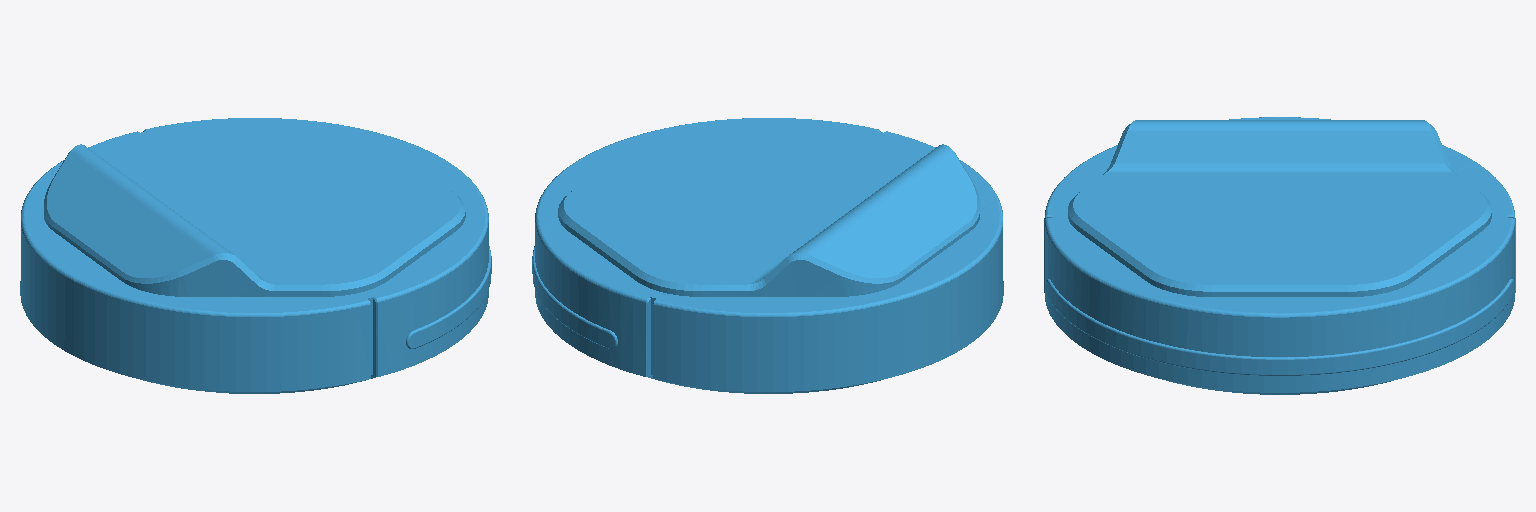
robot.urdf — kobuki_standalone:
<?xml version="1.0" encoding="utf-8"?>
<!-- =================================================================================== -->
<!-- |    This document was autogenerated by xacro from kobuki_standalone.urdf.xacro   | -->
<!-- |    EDITING THIS FILE BY HAND IS NOT RECOMMENDED                                 | -->
<!-- =================================================================================== -->
<robot name="kobuki_standalone" xmlns:controller="http://playerstage.sourceforge.net/gazebo/xmlschema/#controller" xmlns:interface="http://playerstage.sourceforge.net/gazebo/xmlschema/#interface" xmlns:sensor="http://playerstage.sourceforge.net/gazebo/xmlschema/#sensor" xmlns:xacro="http://ros.org/wiki/xacro">
  <!-- <xacro:include filename="$(find kobuki_description)/urdf/kobuki_gazebo.urdf.xacro"/> -->
  <link name="base_footprint"/>

  <joint name="base_joint" type="fixed">
    <origin rpy="0 0 0" xyz="0 0 0.06"/>
    <parent link="base_footprint"/>
    <child link="base_link"/>
  </joint>


  <link name="base_link">
    <visual>
      <geometry>
        <!-- new mesh -->
        <mesh filename="package://tbot_sim/models/kobuki_model/meshes/main_body.dae"/>
      </geometry>
      <origin rpy="0 0 0" xyz="0.01 0 0.0"/>
    </visual>
    <collision name="base">
      <geometry>
        <cylinder length="0.10938" radius="0.178"/>
      </geometry>
      <origin rpy="0 0 0" xyz="0.0 0 0.05949"/>
    </collision>
    <inertial>
      <!-- COM experimentally determined -->
      <origin xyz="0.01 0 0"/>
      <mass value="2.4"/>
      <!-- 2.4/2.6 kg for small/big battery pack -->
      <!-- Kobuki's inertia tensor is approximated by a cylinder with homogeneous mass distribution
             More details: http://en.wikipedia.org/wiki/List_of_moment_of_inertia_tensors
             m = 2.4 kg; h = 0.09 m; r = 0.175 m
             ixx = 1/12 * m * (3 * r^2 + h^2)
             iyy = 1/12 * m * (3 * r^2 + h^2)
             izz = 1/2 * m * r^2
          -->
      <inertia ixx="0.019995" ixy="0.0" ixz="0.0" iyy="0.019995" iyz="0.0" izz="0.03675"/>
    </inertial>
  </link>
  <joint name="wheel_left_joint" type="continuous">
    <parent link="base_link"/>
    <child link="wheel_left_link"/>
    <origin rpy="-1.57079632679 0 0" xyz="0.00 0.115 -0.0250"/>
    <axis xyz="0 0 1"/>
  </joint>
  <link name="wheel_left_link">
    <visual>
      <geometry>
        <mesh filename="package://tbot_sim/models/kobuki_model/meshes/wheel.dae"/>
      </geometry>
      <origin rpy="0 0 0" xyz="0 0 0"/>
    </visual>
    <collision>
      <geometry>
        <cylinder length="0.0206" radius="0.0352"/>
      </geometry>
      <origin rpy="0 0 0" xyz="0 0 0"/>
    </collision>
    <inertial>
      <mass value="0.01"/>
      <origin xyz="0 0 0"/>
      <inertia ixx="0.001" ixy="0.0" ixz="0.0" iyy="0.001" iyz="0.0" izz="0.001"/>
    </inertial>
  </link>
  <joint name="wheel_right_joint" type="continuous">
    <parent link="base_link"/>
    <child link="wheel_right_link"/>
    <origin rpy="-1.57079632679 0 0" xyz="0.00 -0.115 -0.0250"/>
    <axis xyz="0 0 1"/>
  </joint>
  <link name="wheel_right_link">
    <visual>
      <geometry>
        <mesh filename="package://tbot_sim/models/kobuki_model/meshes/wheel.dae"/>
      </geometry>
      <origin rpy="0 0 0" xyz="0 0 0"/>
    </visual>
    <collision>
      <geometry>
        <cylinder length="0.0206" radius="0.0350"/>
      </geometry>
      <origin rpy="0 0 0" xyz="0 0 0"/>
    </collision>
    <inertial>
      <mass value="0.01"/>
      <origin xyz="0 0 0"/>
      <inertia ixx="0.001" ixy="0.0" ixz="0.0" iyy="0.001" iyz="0.0" izz="0.001"/>
    </inertial>
  </link>
  <joint name="caster_front_joint" type="fixed">
    <parent link="base_link"/>
    <child link="caster_front_link"/>
    <origin rpy="-1.57079632679 0 0" xyz="0.115 0.0 0.007"/>
  </joint>
  <link name="caster_front_link">
    <collision>
      <geometry>
        <cylinder length="0.0176" radius="0.017"/>
      </geometry>
      <origin rpy="0 0 0" xyz="0 0 0"/>
    </collision>
    <inertial>
      <mass value="0.01"/>
      <origin xyz="0 0 0"/>
      <inertia ixx="0.001" ixy="0.0" ixz="0.0" iyy="0.001" iyz="0.0" izz="0.001"/>
    </inertial>
  </link>
  <joint name="caster_back_joint" type="fixed">
    <parent link="base_link"/>
    <child link="caster_back_link"/>
    <origin rpy="-1.57079632679 0 0" xyz="-0.135 0.0 0.009"/>
  </joint>
  <link name="caster_back_link">
    <collision>
      <geometry>
        <cylinder length="0.0176" radius="0.017"/>
      </geometry>
      <origin rpy="0 0 0" xyz="0 0 0"/>
    </collision>
    <inertial>
      <mass value="0.01"/>
      <origin xyz="0 0 0"/>
      <inertia ixx="0.001" ixy="0.0" ixz="0.0" iyy="0.001" iyz="0.0" izz="0.001"/>
    </inertial>
  </link>
  <!-- Kobuki's sensors -->
  <joint name="gyro_joint" type="fixed">
    <axis xyz="0 1 0"/>
    <origin rpy="0 0 0" xyz="0.056 0.062 0.0202"/>
    <parent link="base_link"/>
    <child link="imu_link"/>
  </joint>

<!-- 
  Gazebo libgazebo_ros_imu plugin bug, the name of the gyro_link was changed to 
  imu_link. https://github.com/googlecartographer/cartographer_ros/issues/278#issuecomment-[number redacted] 

-->
  <link name="imu_link">
    <inertial>
      <mass value="0.001"/>
      <origin rpy="0 0 0" xyz="0 0 0"/>
      <inertia ixx="0.0001" ixy="0" ixz="0" iyy="0.000001" iyz="0" izz="0.0001"/>
    </inertial>
  </link>
  <joint name="cliff_sensor_left_joint" type="fixed">
    <origin rpy="0 1.57079632679 0" xyz="0.08734 0.13601 0.0214"/>
    <parent link="base_link"/>
    <child link="cliff_sensor_left_link"/>
  </joint>
  <link name="cliff_sensor_left_link">
    <inertial>
      <mass value="0.0001"/>
      <origin xyz="0 0 0"/>
      <inertia ixx="0.0001" ixy="0.0" ixz="0.0" iyy="0.0001" iyz="0.0" izz="0.0001"/>
    </inertial>
  </link>
  <joint name="cliff_sensor_right_joint" type="fixed">
    <origin rpy="0 1.57079632679 0" xyz="0.085 -0.13601 0.0214"/>
    <parent link="base_link"/>
    <child link="cliff_sensor_right_link"/>
  </joint>
  <link name="cliff_sensor_right_link">
    <inertial>
      <mass value="0.0001"/>
      <origin xyz="0 0 0"/>
      <inertia ixx="0.0001" ixy="0.0" ixz="0.0" iyy="0.0001" iyz="0.0" izz="0.0001"/>
    </inertial>
  </link>
  <joint name="cliff_sensor_front_joint" type="fixed">
    <origin rpy="0 1.57079632679 0" xyz="0.156 0.00 0.0214"/>
    <parent link="base_link"/>
    <child link="cliff_sensor_front_link"/>
  </joint>
  <link name="cliff_sensor_front_link">
    <inertial>
      <mass value="0.0001"/>
      <origin xyz="0 0 0"/>
      <inertia ixx="0.0001" ixy="0.0" ixz="0.0" iyy="0.0001" iyz="0.0" izz="0.0001"/>
    </inertial>
  </link>
  <!-- Kobuki Gazebo simulation details -->
  <!-- <kobuki_sim/> -->
  <!-- Laser Link -->
    <joint name="laser_joint" type="fixed">
        <parent link="base_link"/>
        <child link="laser_link"/>
        <origin rpy="0 0 0" xyz="0.115 0.00 0.07"/>
    </joint>

    <link name="laser_link">
      <visual>
        <geometry>
          <mesh filename="package://tbot_sim/models/kobuki_model/meshes/hokuyo.dae"/>
        </geometry>
        <origin rpy="0 0 0" xyz="0.01 0 0.0"/>
      </visual>
      <collision name="collision-laser">
        <geometry>
          <cylinder length="0.10938" radius="0.178"/>
        </geometry>
        <origin rpy="0 0 0" xyz="0.0 0 0.05949"/>
      </collision>
      <inertial>
        <mass value="0.1"/>
        <origin xyz="0 0 0"/>
        <inertia ixx="0.0001" ixy="0.0" ixz="0.0" iyy="0.0001" iyz="0.0" izz="0.0001"/>
      </inertial>
    </link>

</robot>

--- Render facts (derived) ---
Views: 3 orthographic renders of the robot side by side, from view 1: azimuth 30°, elevation 25°; view 2: azimuth 150°, elevation 25°; view 3: azimuth 270°, elevation 25°.
Robot: kobuki_standalone — 11 links, 10 joints (2 continuous, 8 fixed); root link base_footprint; default pose: all joints at 0.
Visible links, largest first — view 1: base_link; view 2: base_link; view 3: base_link.
Link boxes in pixels (bbox=[...]): base_link: bbox=[20, 118, 491, 393]; base_link: bbox=[532, 118, 1003, 393]; base_link: bbox=[1044, 117, 1515, 394].
Size in the robot's own frame: 0.3518 by 0.35 by 0.1243 metres.
3 mesh visuals loaded from 3 distinct referenced files (2 Collada DAE); not drawn: 1 (reference not matched to a file when rendering).
